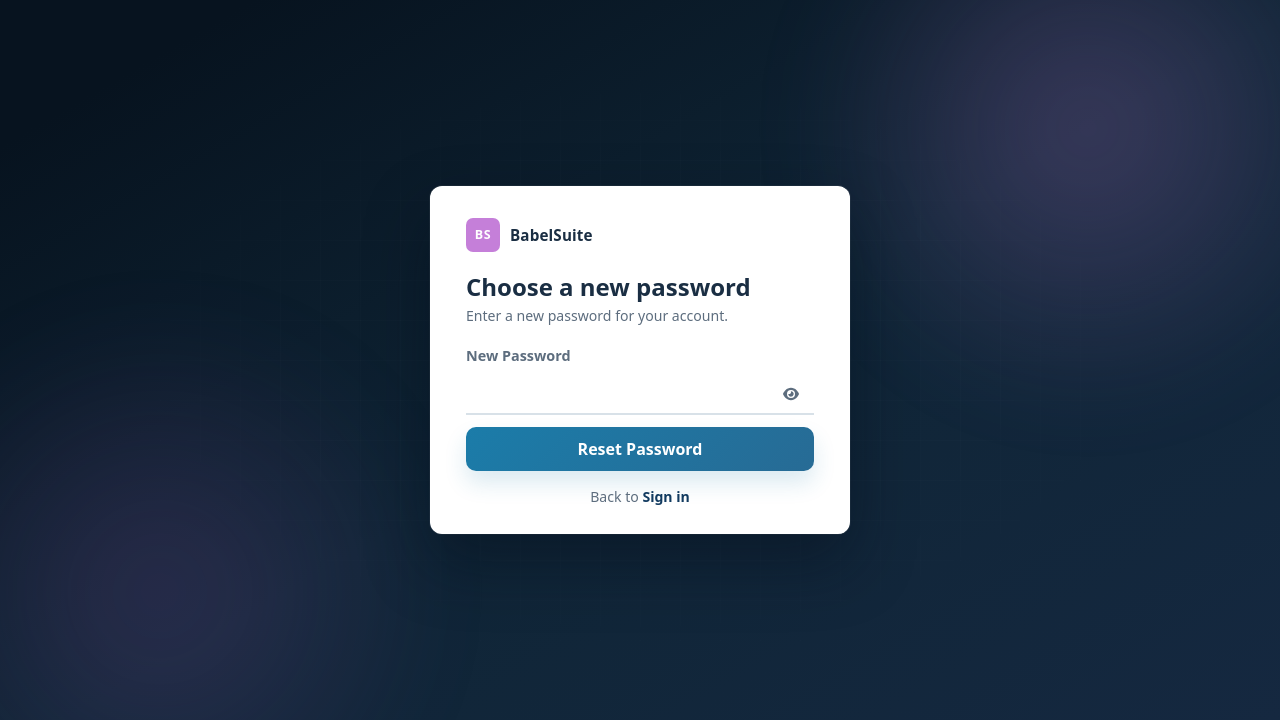
Test: ResetPassword › shows success state after reset
Step 1. Type "NewSecure123!" into the password field labelled "New Password" → [640, 394], box x1=466 y1=373 x2=814 y2=415
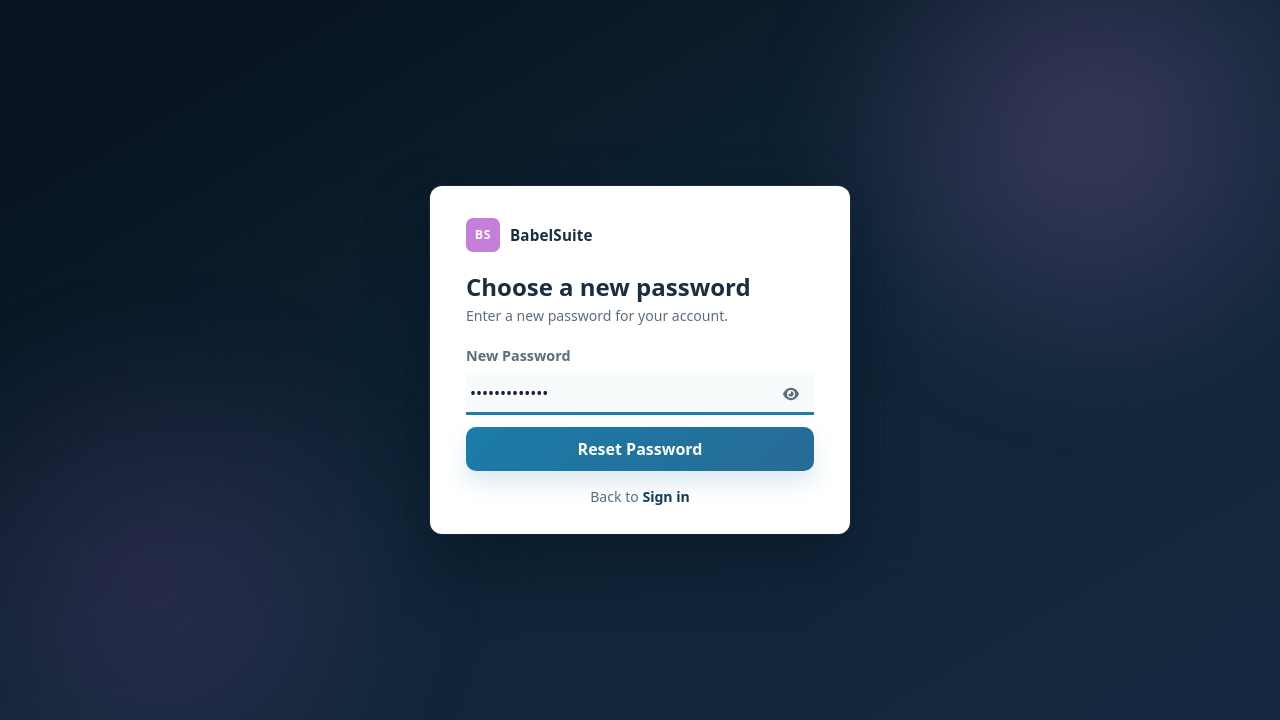
Step 2. Click the button "Reset Password" → [640, 449], box x1=466 y1=427 x2=814 y2=471
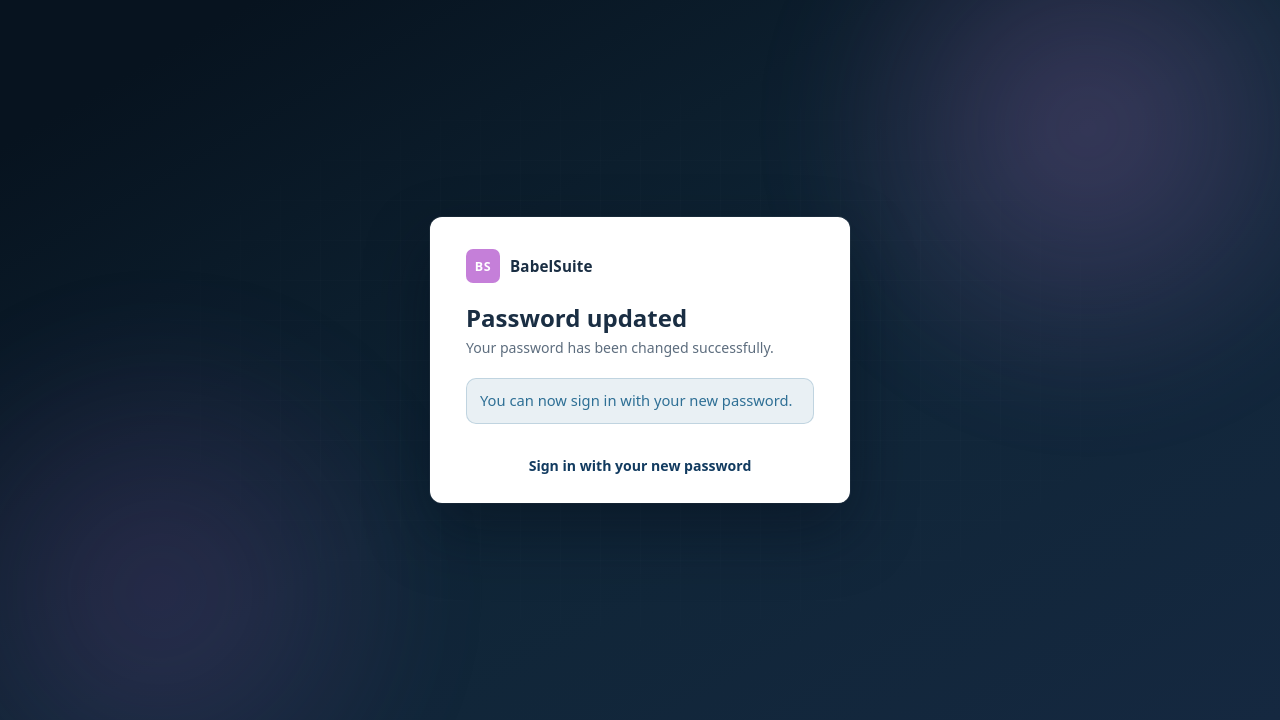
expect the heading "Password updated" is shown: met, box x1=466 y1=301 x2=687 y2=334
expect the link "Sign in with your new password" is shown: met, box x1=529 y1=456 x2=751 y2=475
